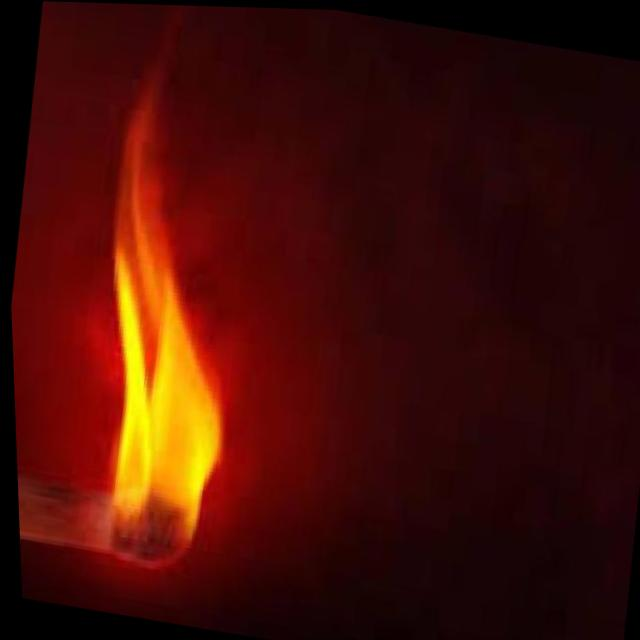Fire: (61, 168, 264, 585)
